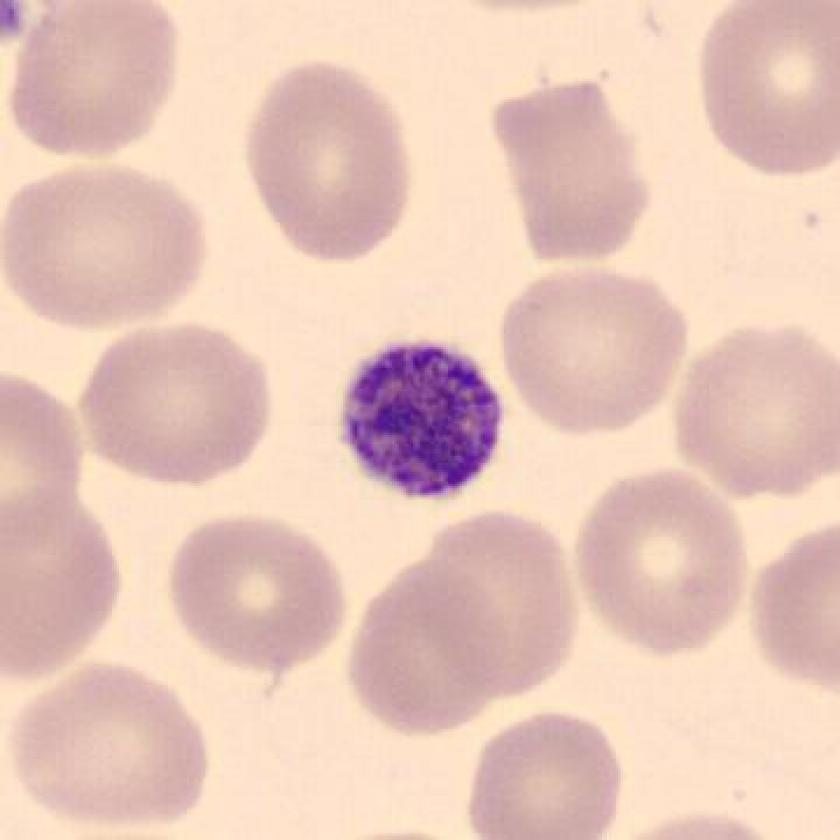platelets: (333, 327, 515, 508)
